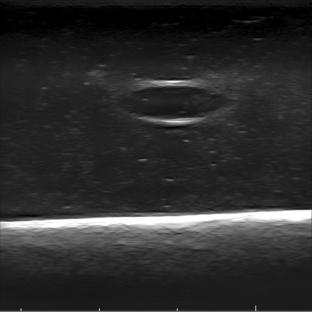vessel: (123, 80, 232, 125)
